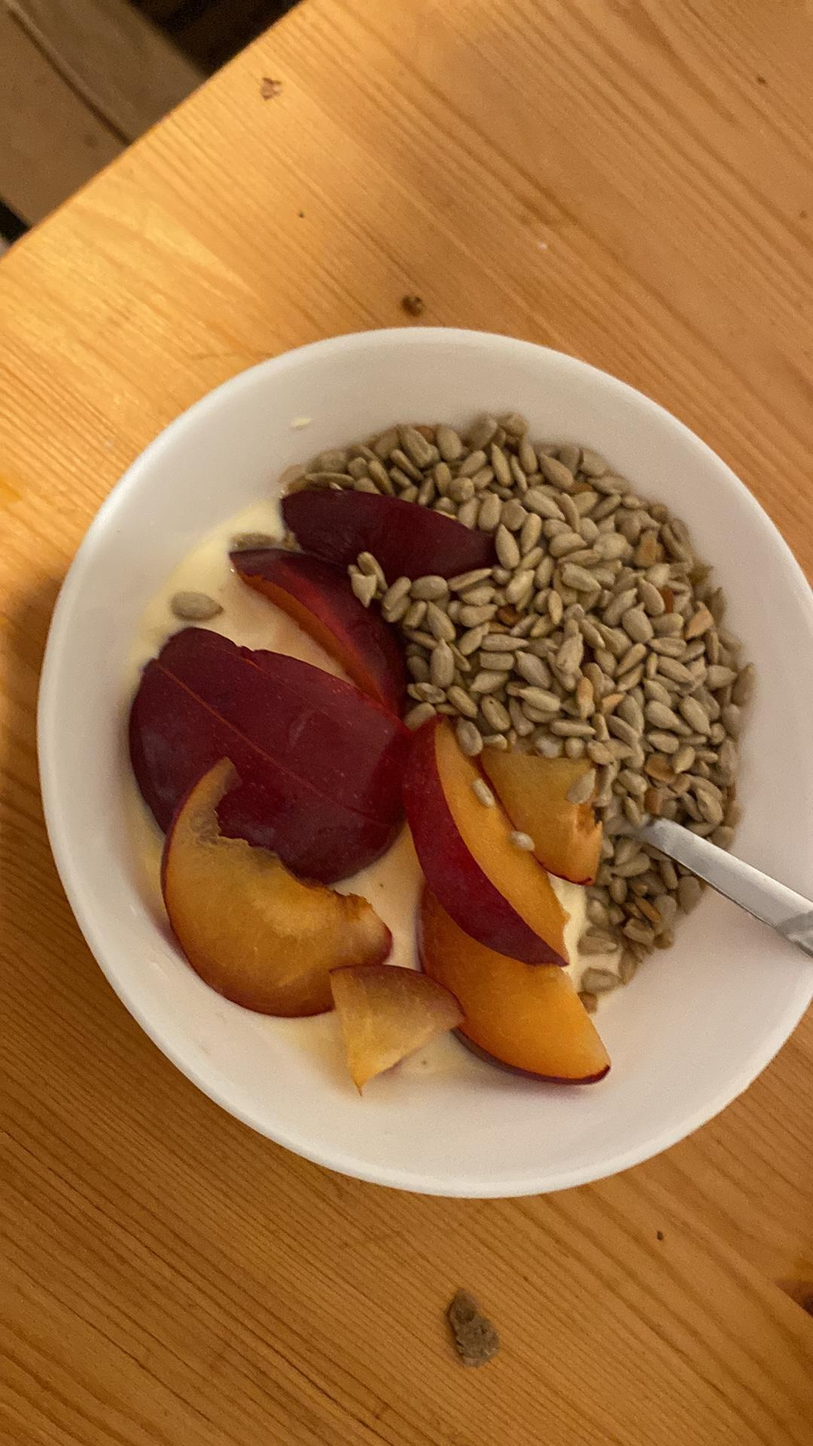peach: (136, 628, 415, 874), (160, 763, 388, 1019), (413, 714, 575, 969), (413, 882, 616, 1081), (227, 547, 403, 715), (279, 492, 496, 580), (332, 958, 459, 1097), (486, 737, 599, 883)
